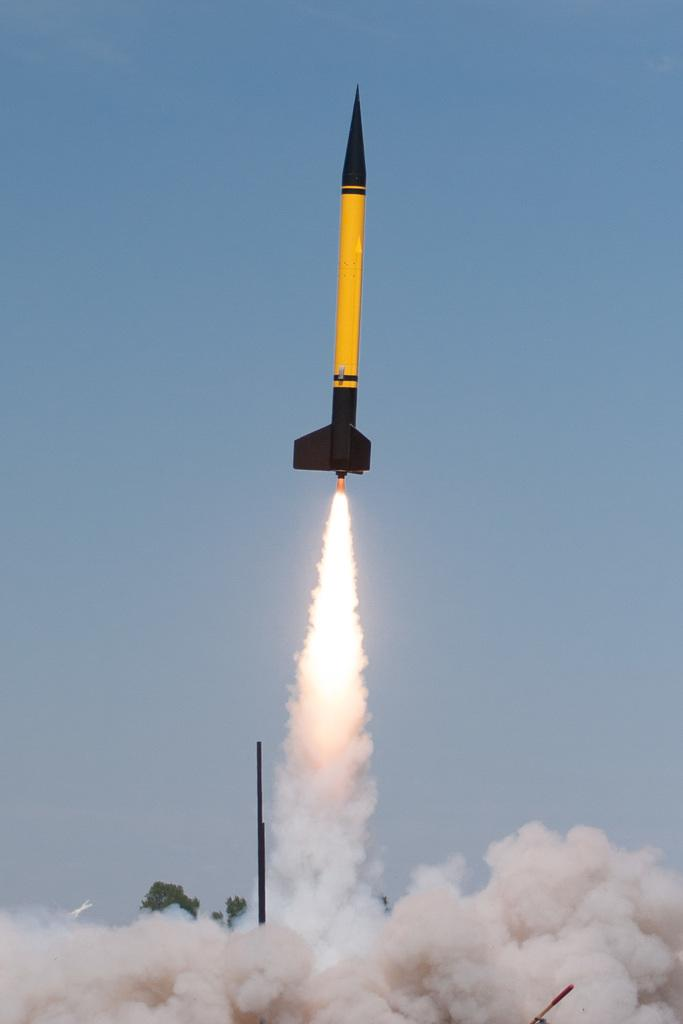Missile: (292, 83, 377, 479)
